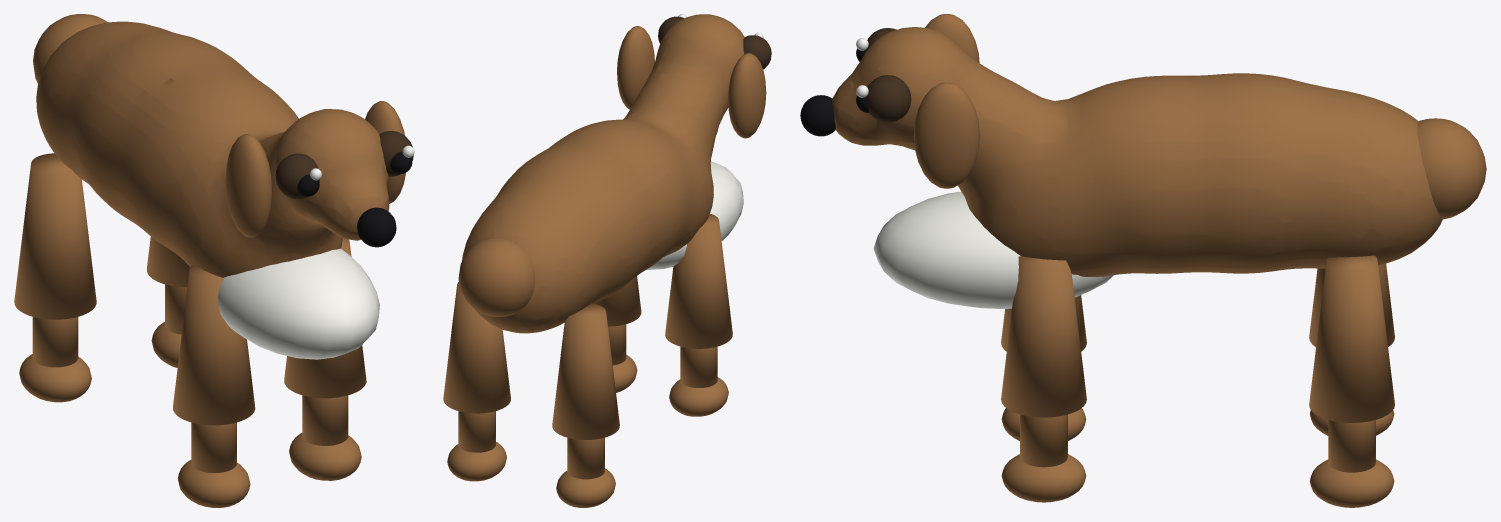
File: Puppy.obj
The picture shows the model from 3 angles, left to right: view 1: azimuth 30°, elevation 25°; view 2: azimuth 150°, elevation 25°; view 3: azimuth 270°, elevation 25°; orthographic projection. The views are drawn at different scales.
Parts seen in each view (by area): view 1: Puppy; view 2: Puppy; view 3: Puppy.
Boxes of the visible parts, box(x1,y1,x2,y2) form: Puppy: box(14, 14, 414, 507); Puppy: box(443, 14, 771, 507); Puppy: box(800, 14, 1486, 507).
Bounding box in the file's own units: 1.54 × 3.03 × 4.31.
